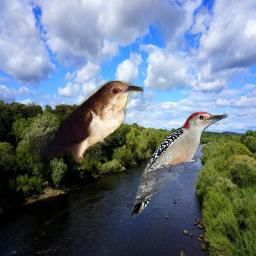Cuckoo: (29, 80, 144, 164)
Woodpecker: (130, 111, 228, 217)
